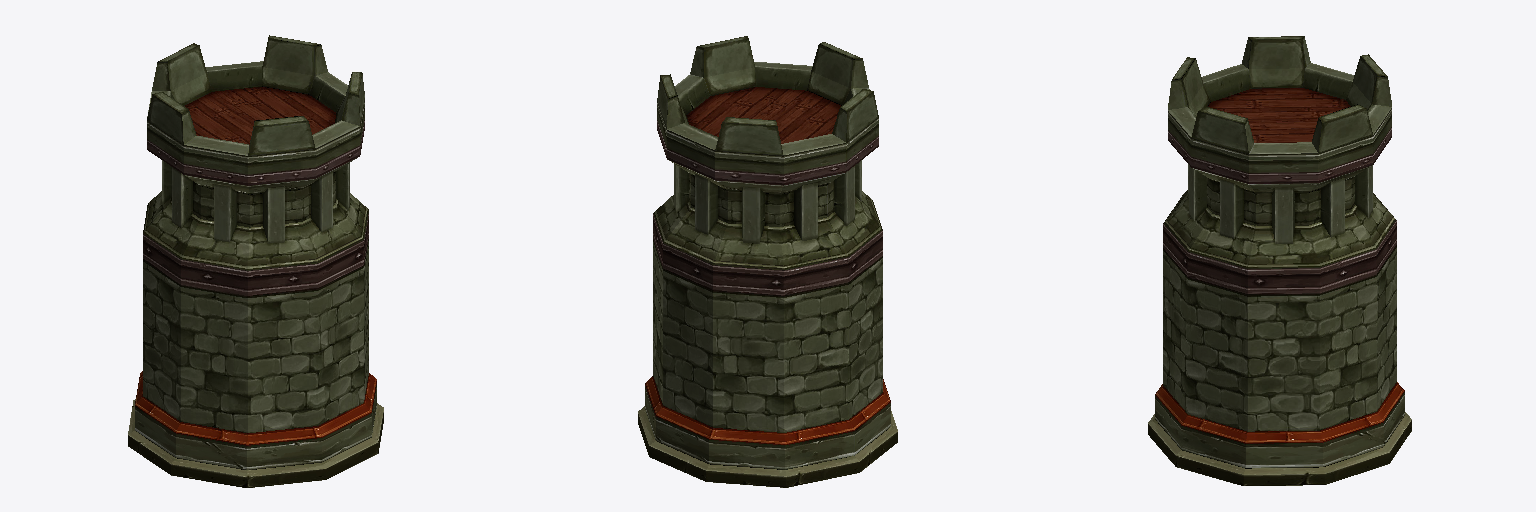
3 renders of one model, left to right at view 1: azimuth 30°, elevation 25°; view 2: azimuth 150°, elevation 25°; view 3: azimuth 270°, elevation 25°, orthographic.
Size of the model in its own units: 11.02 by 16.91 by 11.45.
Materials: 1 (1 with a texture image).